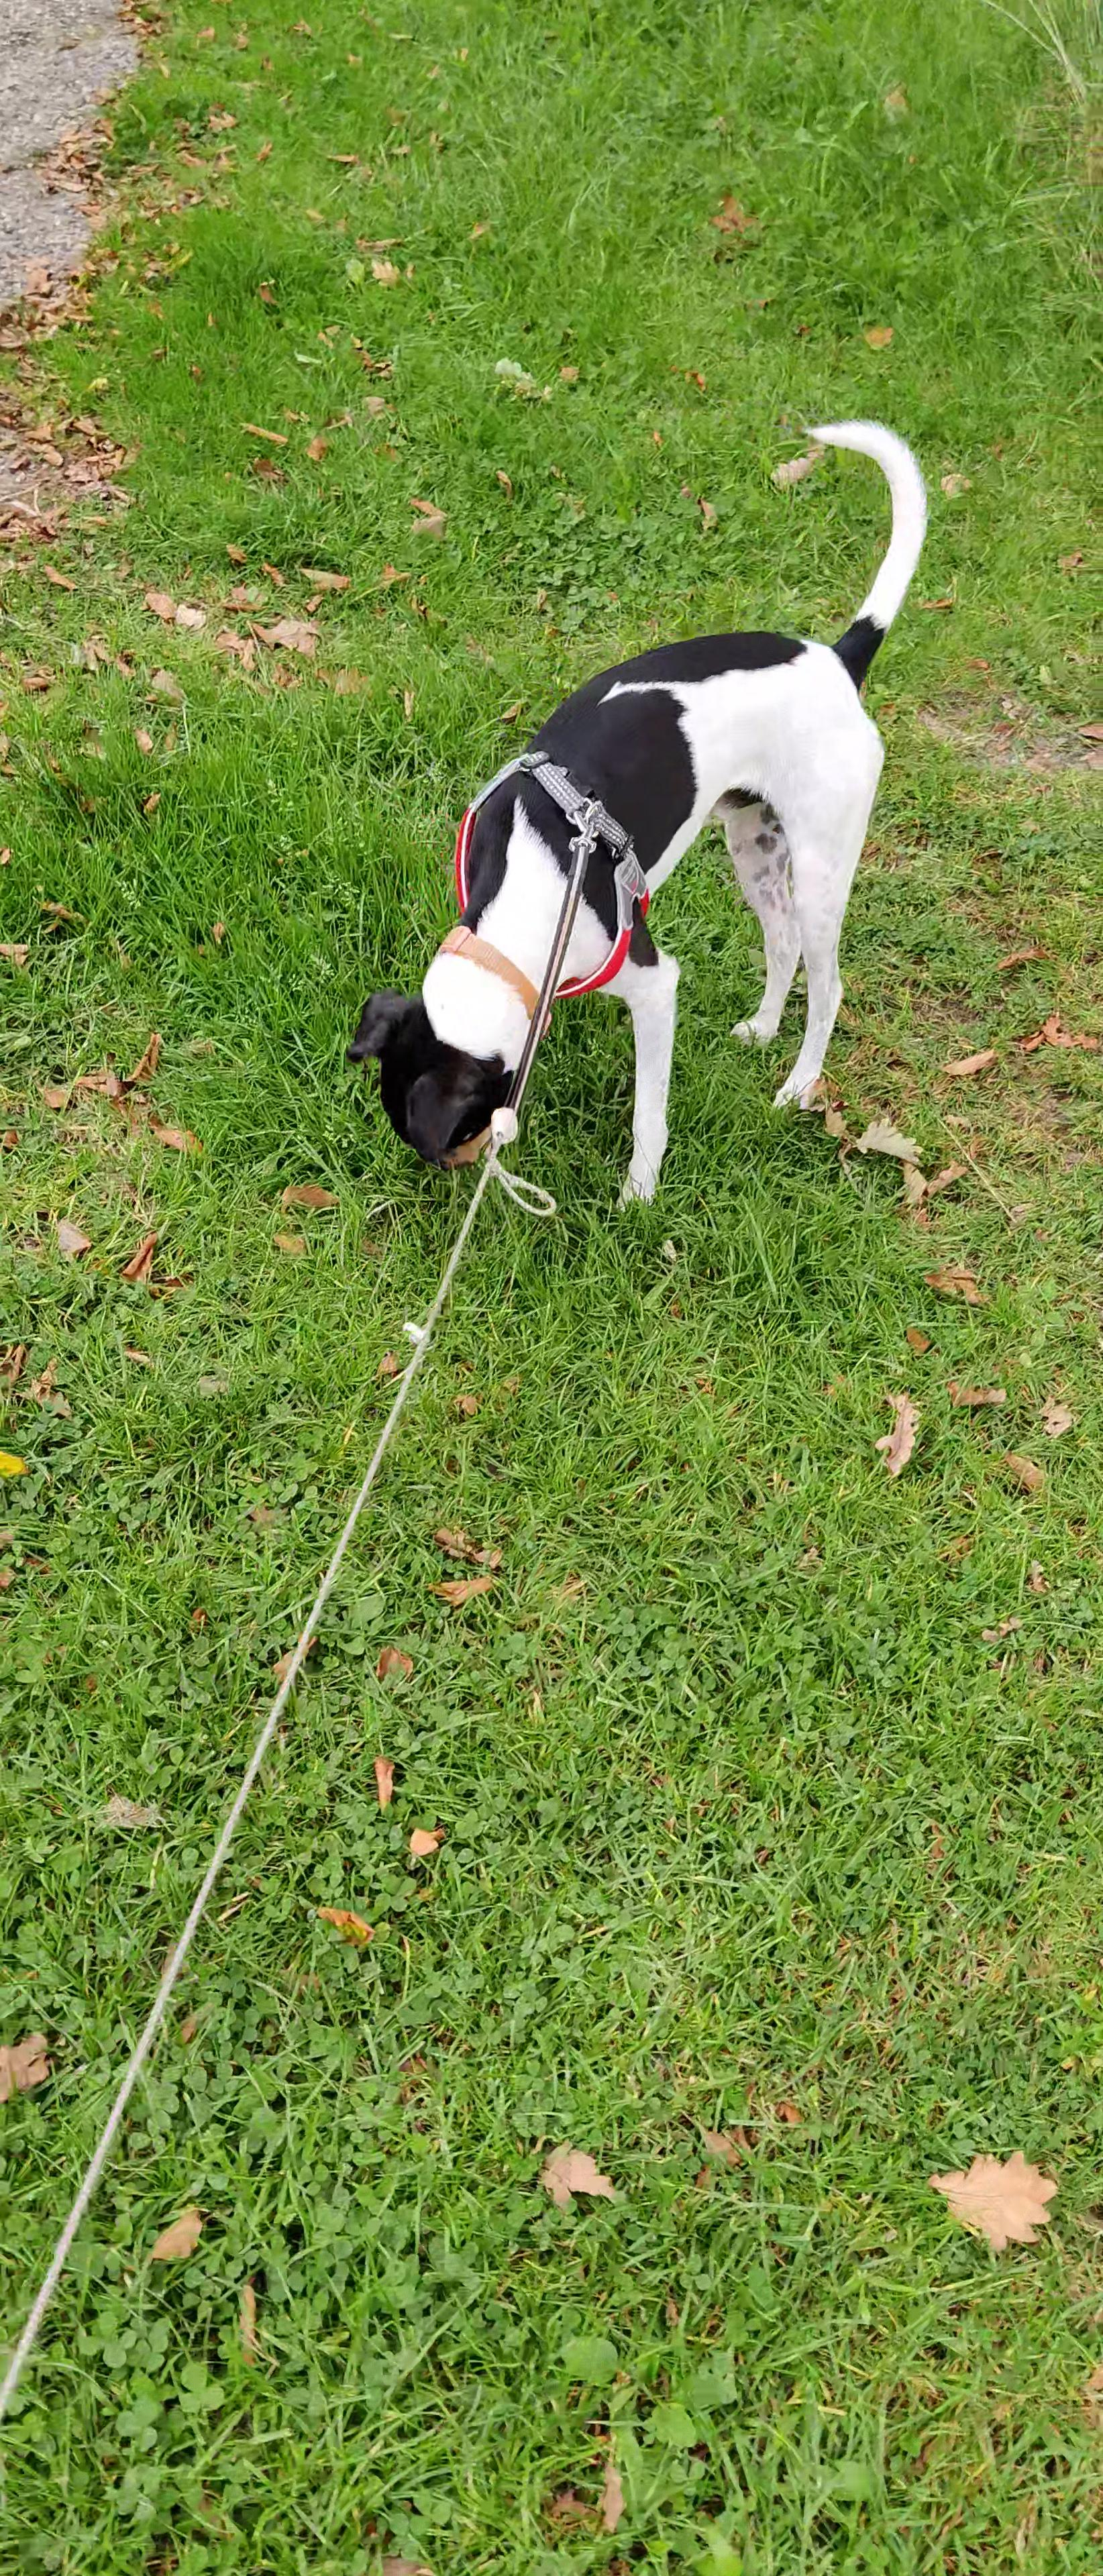Dog: (335, 407, 945, 1221)
